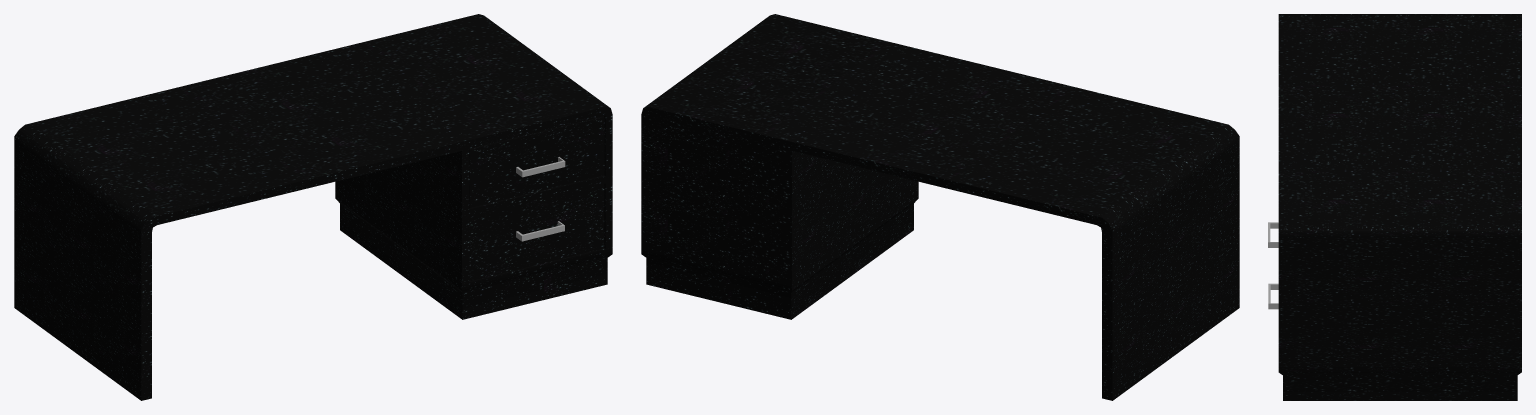
File: desk1.fbx
3 renders of one model, left to right at view 1: azimuth 30°, elevation 25°; view 2: azimuth 150°, elevation 25°; view 3: azimuth 270°, elevation 25°, orthographic. The views are drawn at different scales.
Visible parts, largest first — view 1: pCube2, pCube8, pCube7; view 2: pCube2; view 3: pCube2.
Part boxes in pixels (x1,y1,x2,y2): pCube2: (14, 14, 612, 400); pCube8: (469, 184, 604, 280); pCube7: (469, 116, 604, 207); pCube2: (641, 14, 1239, 400); pCube2: (1278, 14, 1521, 400).
Bounding box in the file's own units: 9 × 3.3 × 4.38.
Materials: 2 (1 with a texture image).
